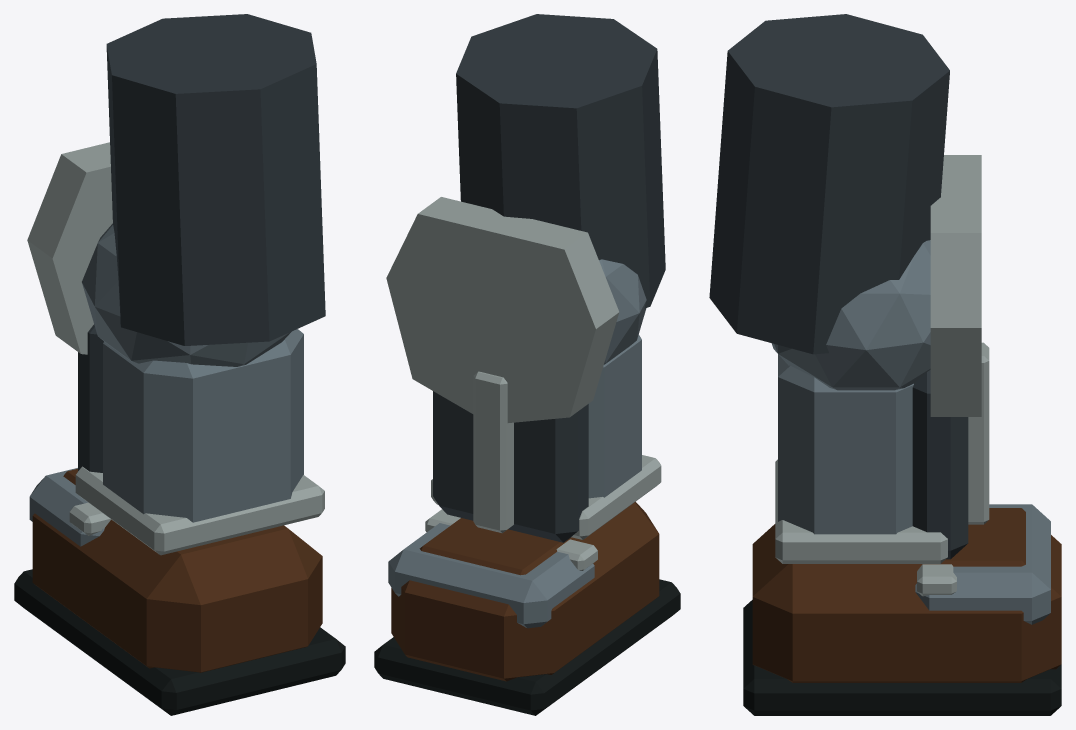
The model's file is LegLeft.glb.
3 renders of one model, left to right at view 1: azimuth 30°, elevation 25°; view 2: azimuth 150°, elevation 25°; view 3: azimuth 270°, elevation 25°, orthographic. The views are drawn at different scales.
Parts seen in each view (by area): view 1: Sculpture; view 2: Sculpture; view 3: Sculpture.
Part boxes in pixels (x1=…): Sculpture: x1=14, y1=14, x2=345, y2=715; Sculpture: x1=374, y1=14, x2=680, y2=715; Sculpture: x1=709, y1=14, x2=1061, y2=715.
Bounding box in the file's own units: 0.29 × 0.7547 × 0.3875.
